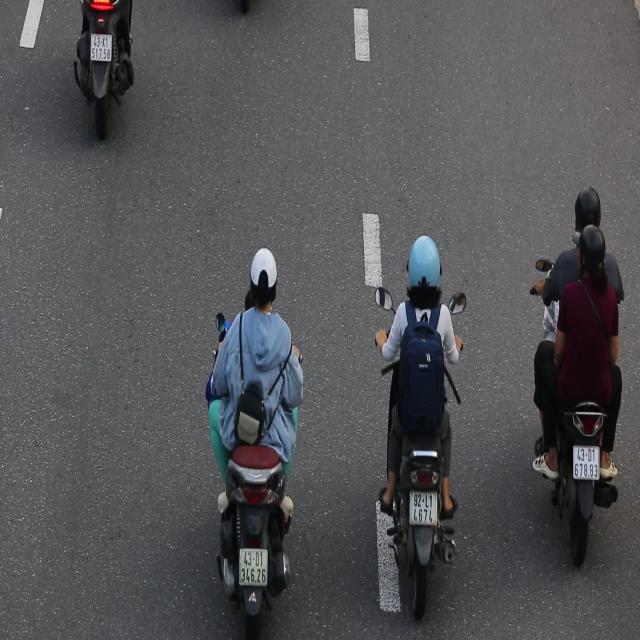motorbike: (527, 176, 632, 570), (209, 242, 311, 640), (372, 227, 471, 629)
